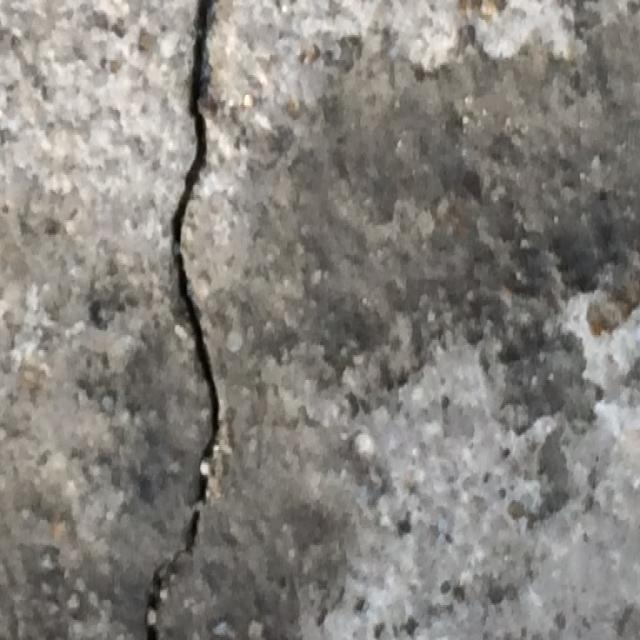crack: (140, 1, 222, 634)
